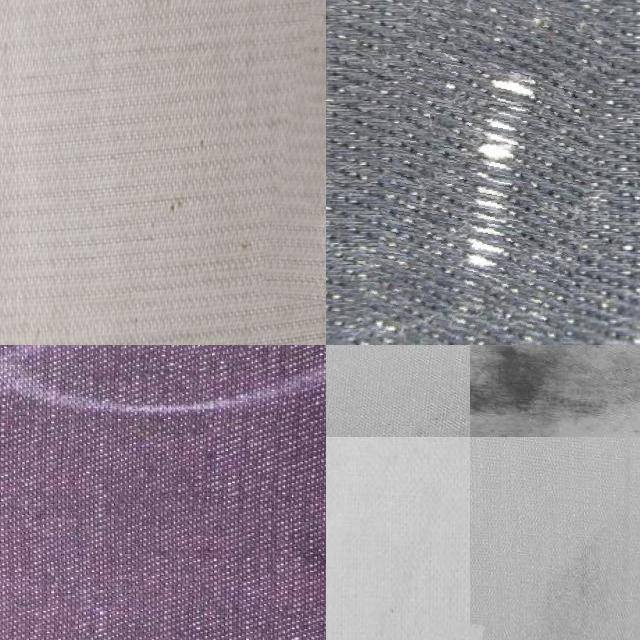Thread_other: (470, 345, 640, 436)
stains: (365, 0, 601, 345), (276, 0, 326, 306)
